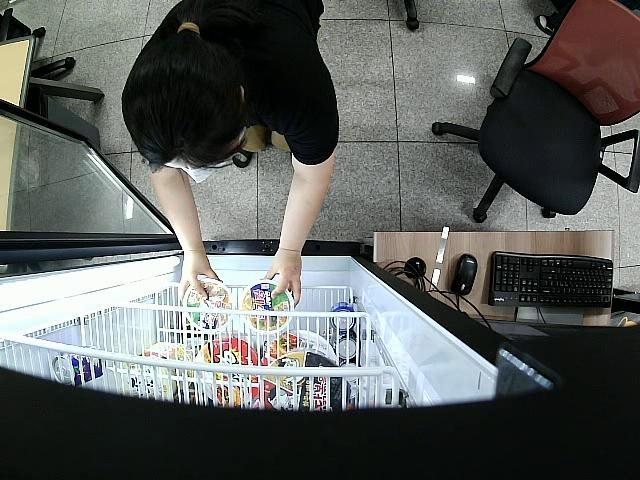09_yukGaeJang: (242, 279, 294, 334), (184, 279, 232, 332)
